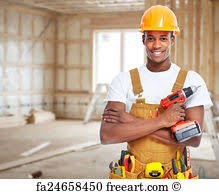hard hat: (138, 5, 180, 33)
